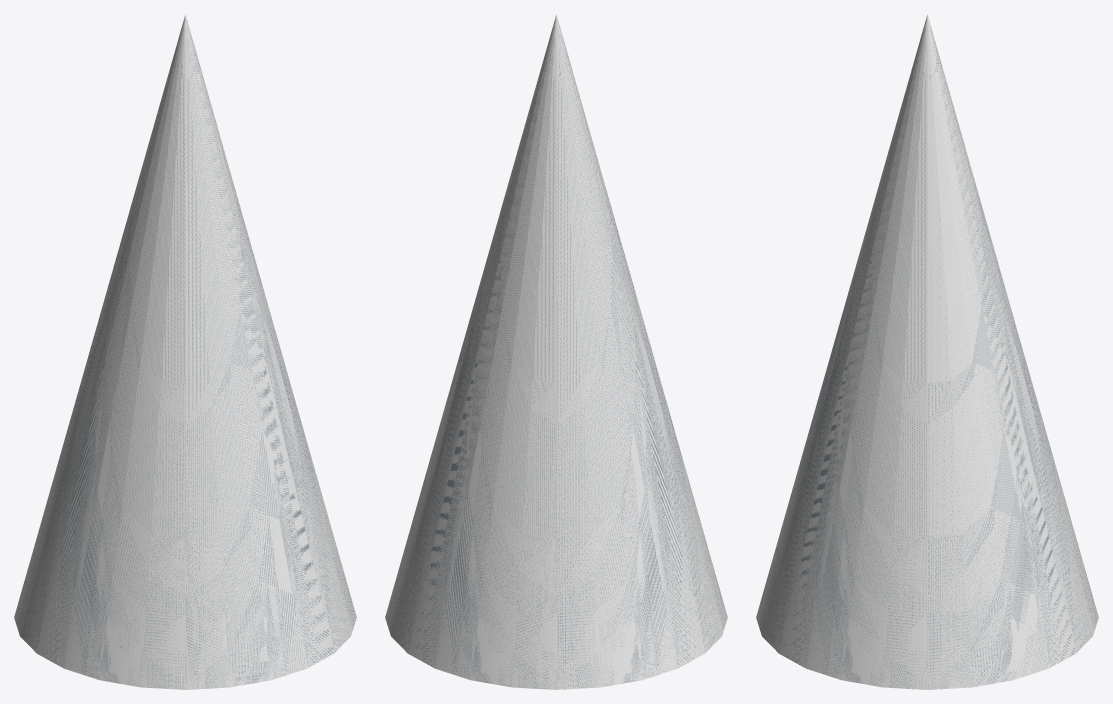
3 renders of one model, left to right at view 1: azimuth 30°, elevation 25°; view 2: azimuth 150°, elevation 25°; view 3: azimuth 270°, elevation 25°, orthographic.
Visible parts, largest first — view 1: SketchUp; view 2: SketchUp; view 3: SketchUp.
Part boxes in pixels (x1,y1,x2,y2): SketchUp: [14, 14, 356, 689]; SketchUp: [385, 14, 727, 689]; SketchUp: [756, 14, 1098, 689].
Size of the model in its own units: 42.38 by 42.38 by 82.31.
